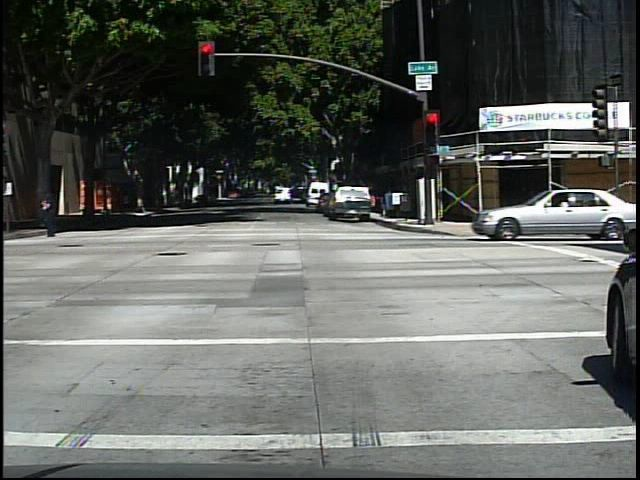person: (37, 188, 66, 240)
